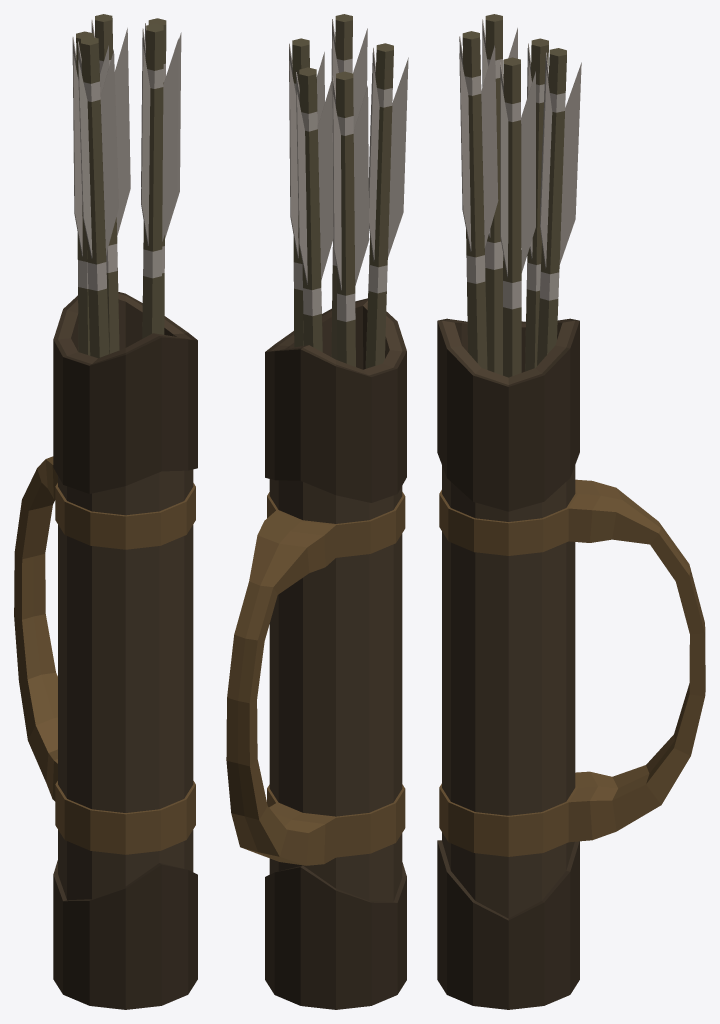
File: W_Arrow_Quiver.fbx
3 renders of one model, left to right at view 1: azimuth 30°, elevation 25°; view 2: azimuth 150°, elevation 25°; view 3: azimuth 270°, elevation 25°, orthographic.
Parts seen in each view (by area): view 1: Quiver; view 2: Quiver; view 3: Quiver.
Boxes of the visible parts, x1,y1,x2,y2 form: Quiver: [14, 14, 197, 1009]; Quiver: [226, 14, 408, 1009]; Quiver: [437, 14, 705, 1009].
Bounding box in the file's own units: 0.1608 × 1.18 × 0.3027.
